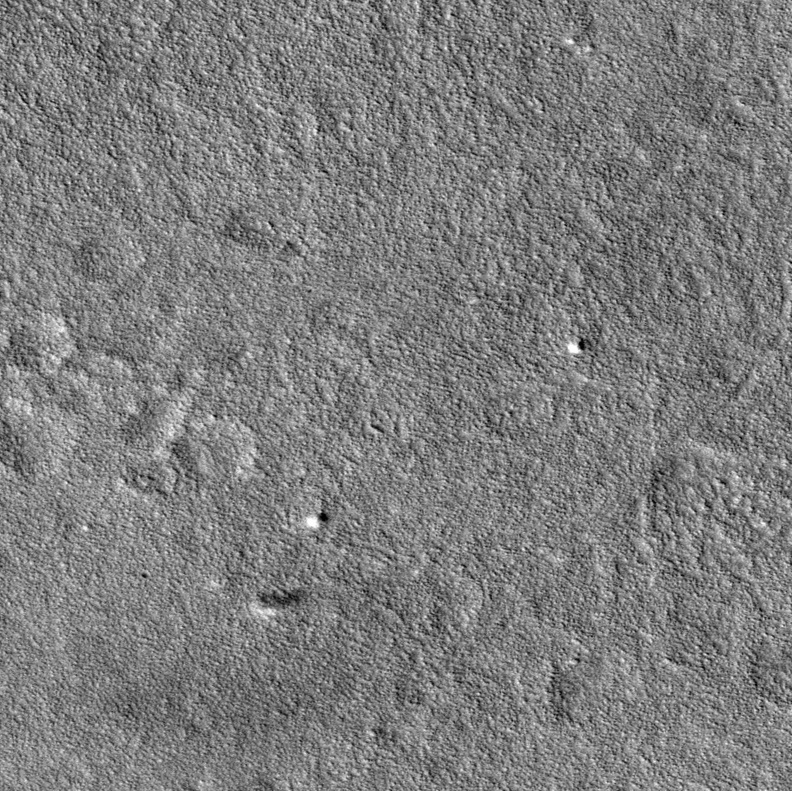dust_devil: (247, 588, 310, 622)
